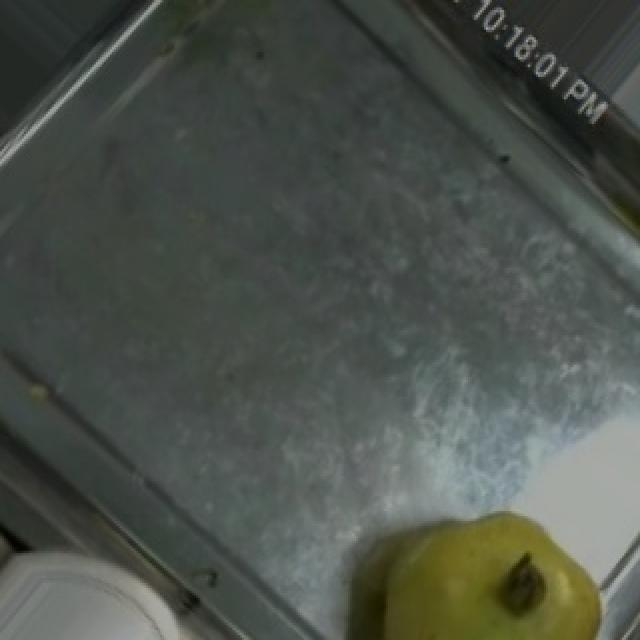fruit: (378, 479, 618, 640)
